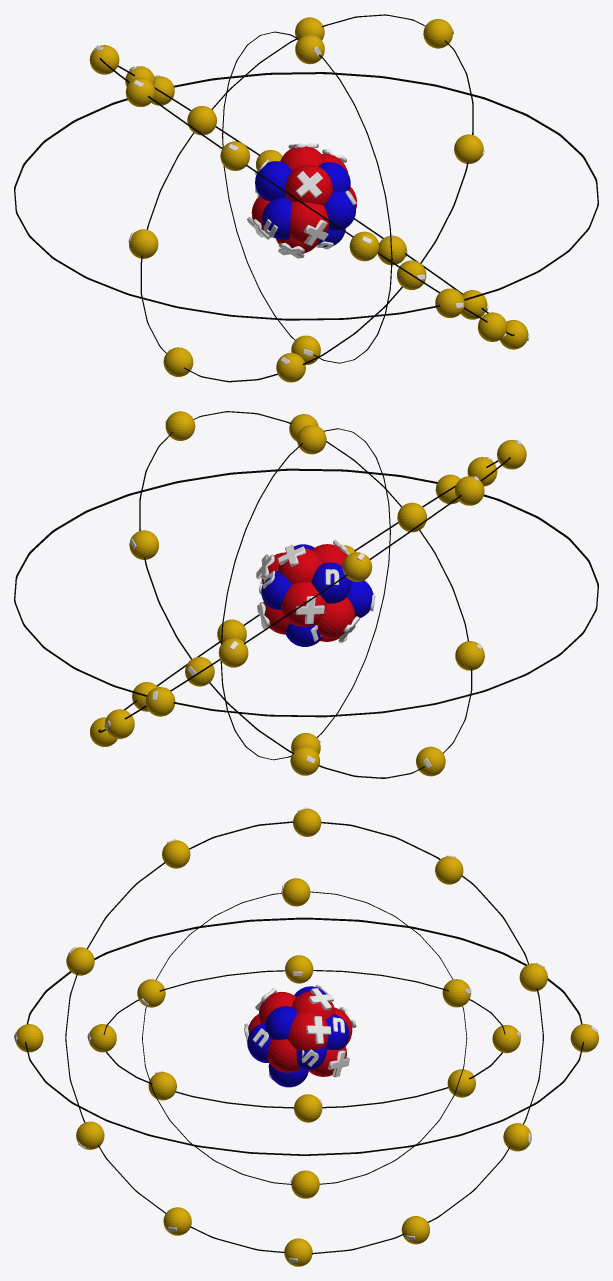
3 views of the same model, one above another, from view 1: azimuth 30°, elevation 25°; view 2: azimuth 150°, elevation 25°; view 3: azimuth 270°, elevation 25° (orthographic). The views are drawn at different scales.
Parts seen in each view (by area): view 1: Circle.003, Circle.001, Circle, Circle.002, Sphere.014, Sphere.025, Sphere.015, Sphere.012, Sphere.018, Sphere.007, Sphere.026, Sphere.013 (+19 smaller); view 2: Circle.003, Circle.001, Circle, Circle.002, Sphere.005, Sphere.011, Sphere.015, Sphere.007, Sphere.026, Sphere.027, Sphere.003, Sphere.018 (+18 smaller); view 3: Circle.003, Circle.002, Circle.001, Circle, Sphere.030, Sphere, Sphere.024, Sphere.002, Sphere.035, Sphere.016, Sphere.036, Sphere.034 (+19 smaller).
Part boxes in pixels (<box>): Circle.003: <box>14,72,598,320</box>; Circle.001: <box>140,14,473,382</box>; Circle: <box>222,31,392,363</box>; Circle.002: <box>99,58,514,336</box>; Sphere.014: <box>285,165,332,205</box>; Sphere.025: <box>290,201,329,243</box>; Sphere.015: <box>255,161,292,201</box>; Sphere.012: <box>324,191,355,231</box>; Sphere.018: <box>262,197,291,239</box>; Sphere.007: <box>280,146,324,171</box>; Sphere.026: <box>423,19,452,48</box>; Sphere.013: <box>454,134,483,163</box>; Circle.003: <box>14,468,598,717</box>; Circle.001: <box>139,411,472,778</box>; Circle: <box>220,428,390,760</box>; Circle.002: <box>98,457,510,732</box>; Sphere.005: <box>281,582,327,626</box>; Sphere.011: <box>315,597,354,638</box>; Sphere.015: <box>311,562,351,603</box>; Sphere.007: <box>278,548,323,583</box>; Sphere.026: <box>165,411,195,440</box>; Sphere.027: <box>262,571,292,609</box>; Sphere.003: <box>297,425,326,454</box>; Sphere.018: <box>347,580,373,617</box>; Circle.003: <box>25,917,583,1155</box>; Circle.002: <box>65,821,543,1254</box>; Circle.001: <box>103,970,505,1108</box>; Circle: <box>142,891,467,1184</box>; Sphere.030: <box>288,1012,328,1050</box>; Sphere: <box>267,1039,300,1072</box>; Sphere.024: <box>265,1006,297,1039</box>; Sphere.002: <box>291,1170,319,1198</box>; Sphere.035: <box>435,856,463,884</box>; Sphere.016: <box>294,1094,322,1122</box>; Sphere.036: <box>162,840,190,868</box>; Sphere.034: <box>519,963,547,991</box>.
Size of the model in its own units: 99.42 by 62.06 by 104.
